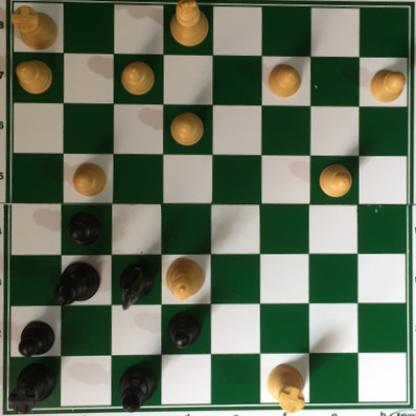black-bishop: (119, 363, 162, 415)
black-king: (55, 259, 103, 307)
black-knight: (123, 265, 158, 313)
black-pawn: (17, 321, 56, 359), (167, 311, 204, 350), (67, 212, 103, 247)
black-rook: (12, 359, 60, 415)
white-king: (170, 0, 215, 51)
white-pawn: (367, 69, 409, 108), (16, 57, 56, 95), (119, 59, 157, 97), (266, 62, 303, 101), (71, 161, 108, 200), (317, 162, 355, 199), (169, 110, 205, 148)
white-queen: (165, 256, 207, 301)
white-rook: (10, 5, 62, 55), (268, 363, 311, 415)
